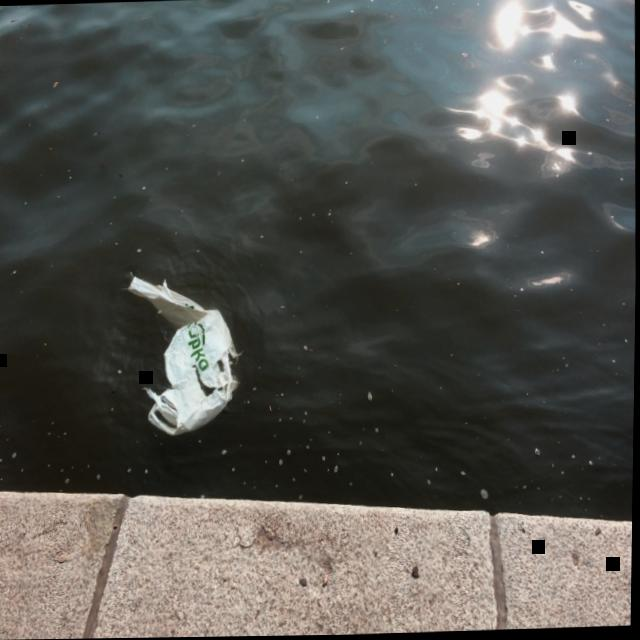Single-use carrier bag: (128, 276, 245, 436)
